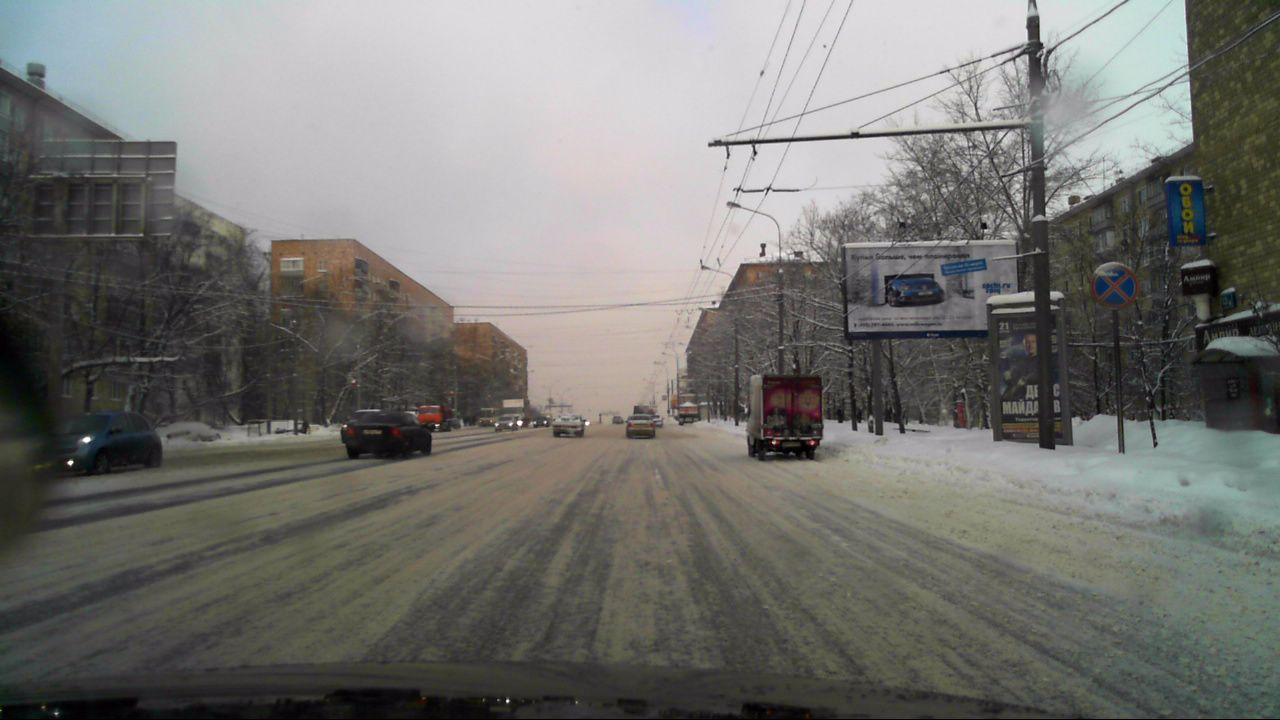No Parking: (1090, 256, 1135, 304)
